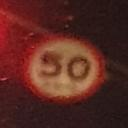speed_limit_50: (21, 32, 108, 105)
